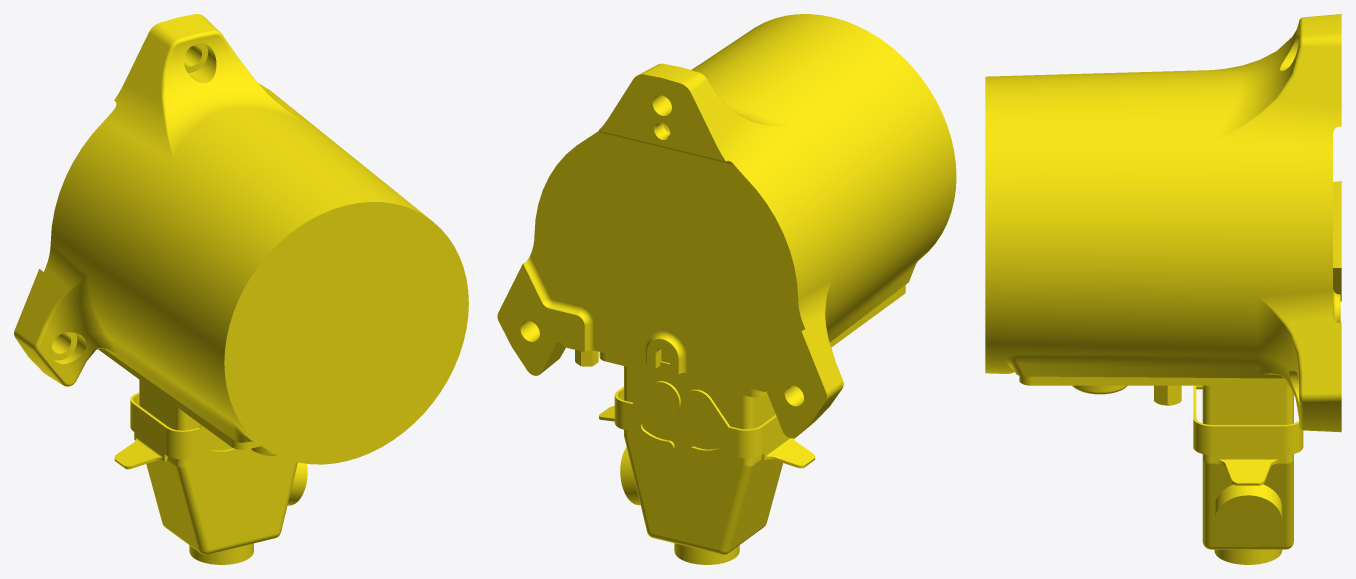
3 renders of one model, left to right at view 1: azimuth 30°, elevation 25°; view 2: azimuth 150°, elevation 25°; view 3: azimuth 270°, elevation 25°, orthographic. The views are drawn at different scales.
Visible parts, largest first — view 1: TX40 HORIZONTAL BASE CABLE OUTLET; view 2: TX40 HORIZONTAL BASE CABLE OUTLET; view 3: TX40 HORIZONTAL BASE CABLE OUTLET.
Part boxes in pixels (box(x1,y1,x2,y2)): TX40 HORIZONTAL BASE CABLE OUTLET: box(14, 14, 468, 564); TX40 HORIZONTAL BASE CABLE OUTLET: box(497, 14, 956, 564); TX40 HORIZONTAL BASE CABLE OUTLET: box(985, 14, 1341, 564).
Bounding box in the file's own units: 187 × 274 × 168.
